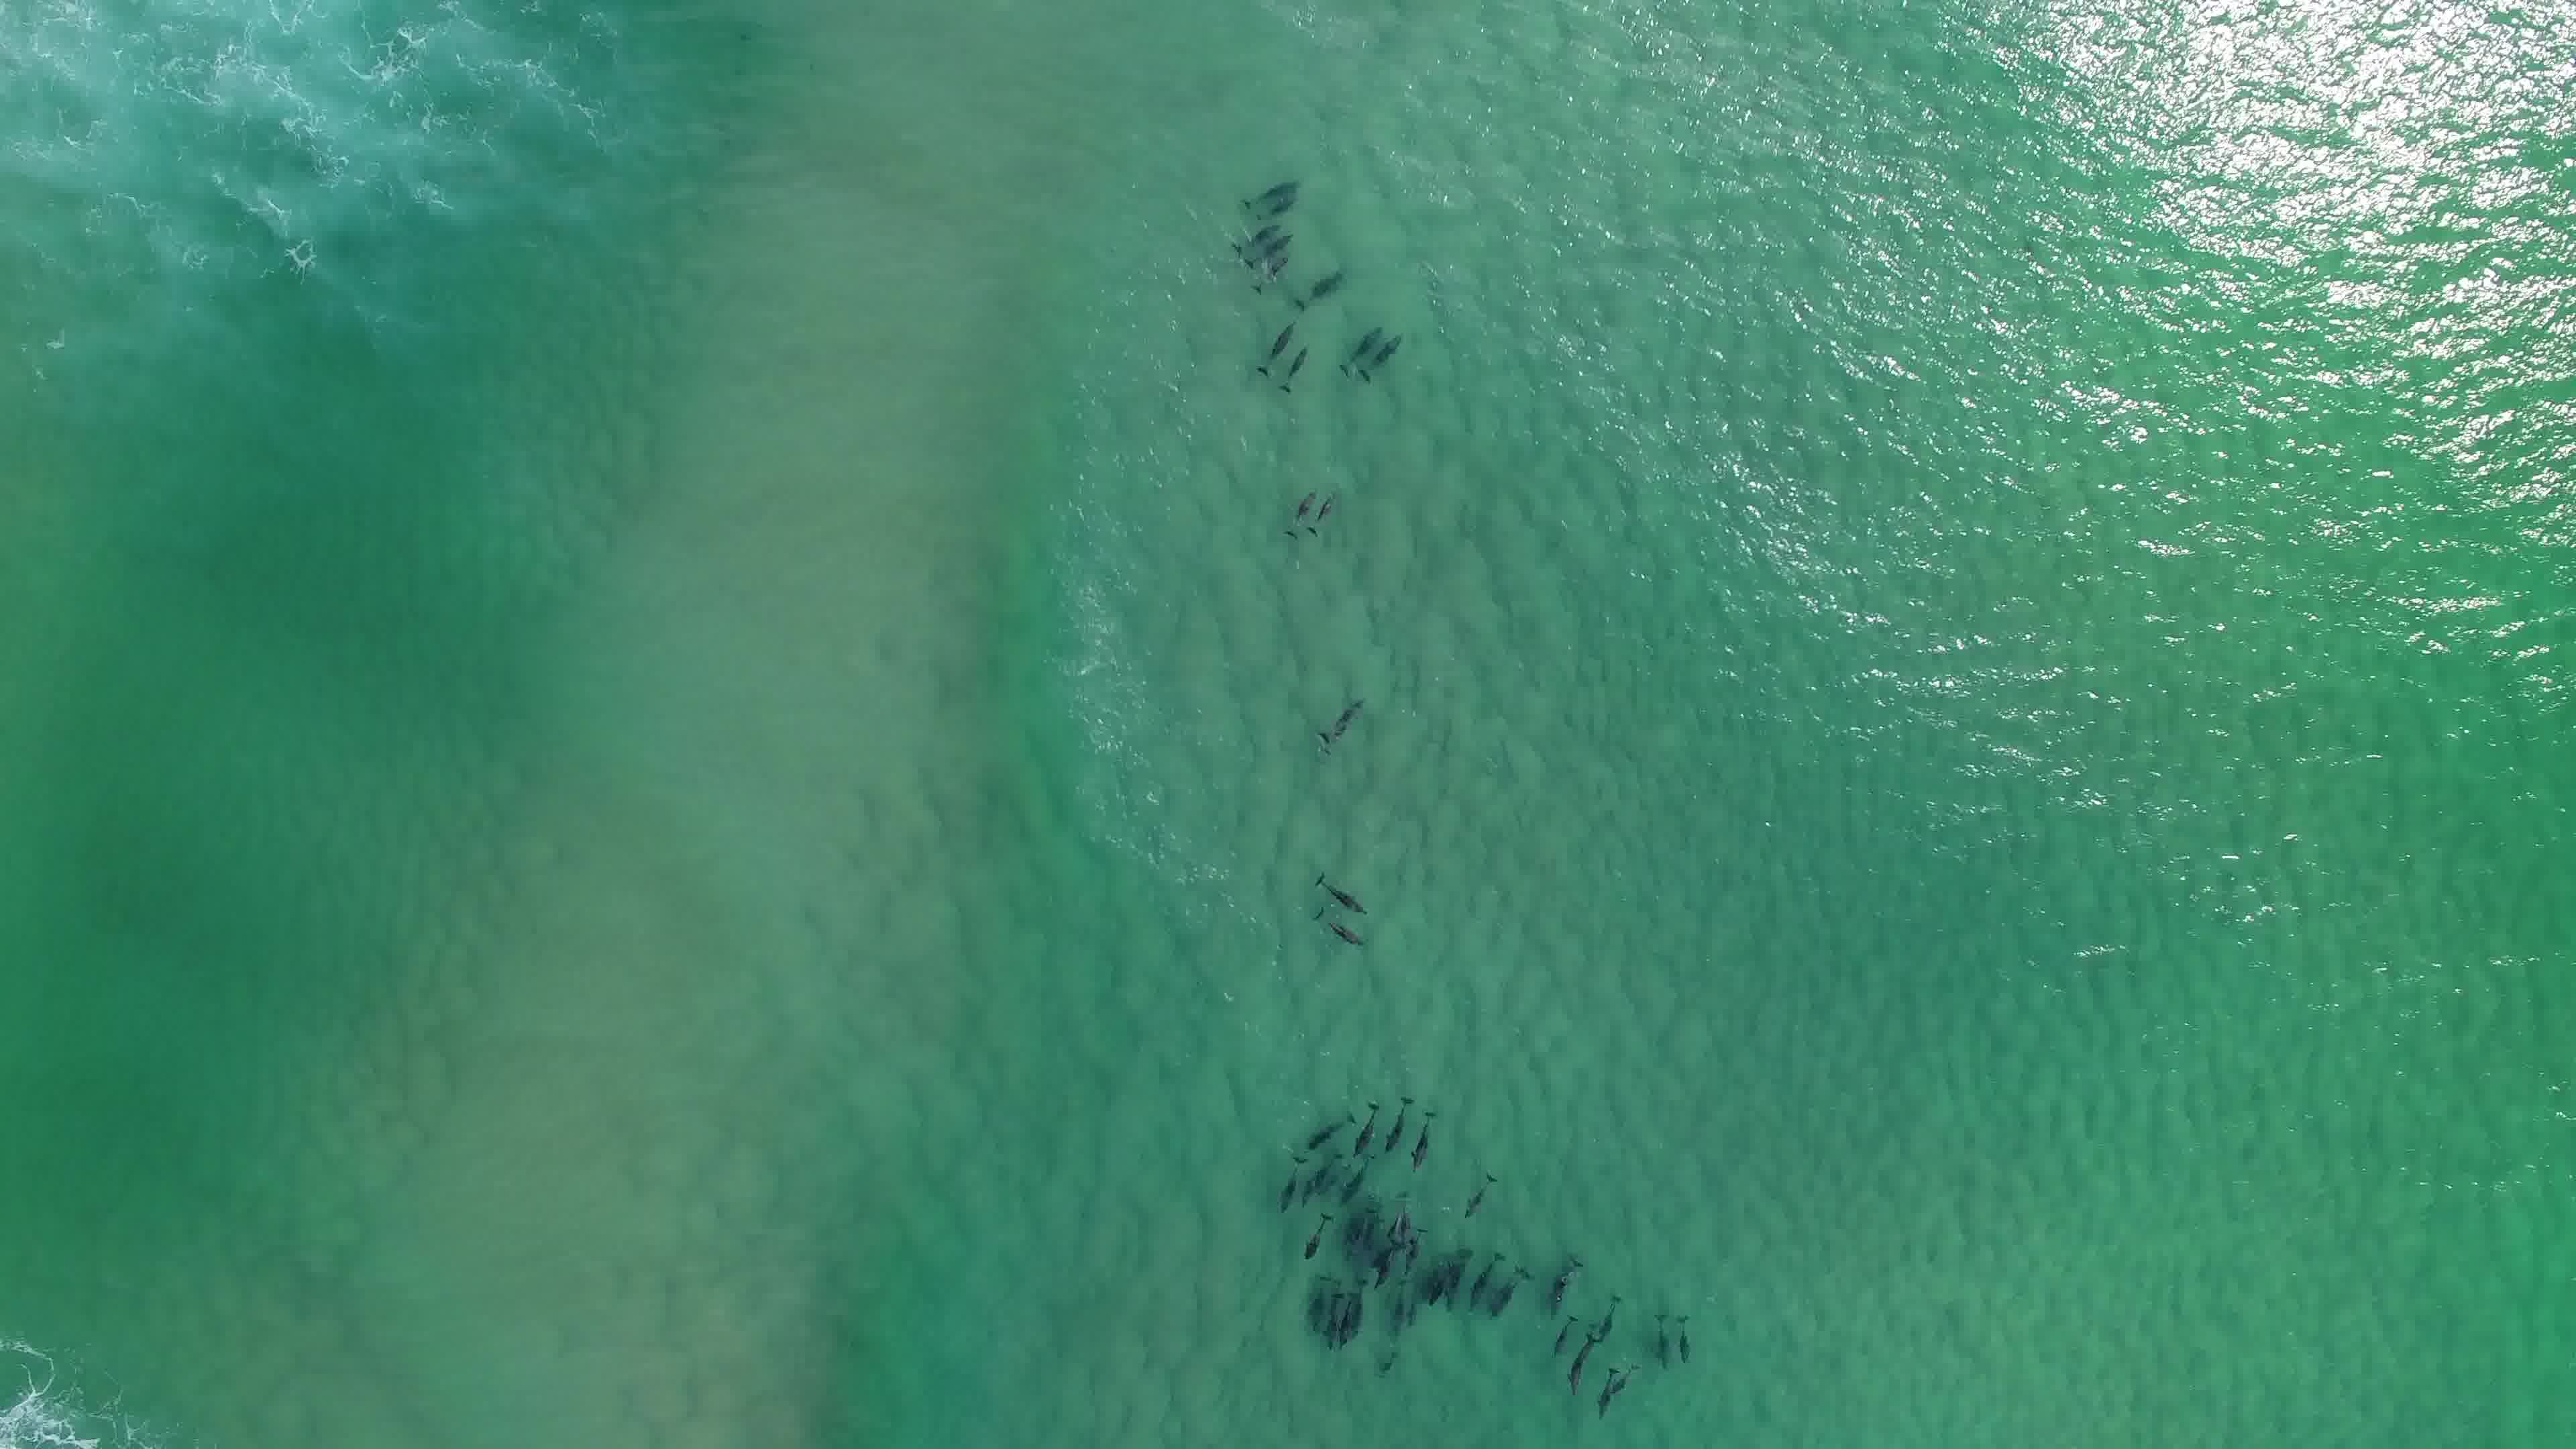dolphin: (1292, 899, 1373, 962), (1304, 849, 1369, 920), (1240, 310, 1307, 370), (1288, 1102, 1353, 1152), (1456, 1155, 1500, 1224), (1230, 166, 1306, 205), (1345, 1090, 1389, 1155), (1412, 1100, 1447, 1180), (1346, 1200, 1385, 1270), (1350, 334, 1407, 382), (1550, 1251, 1585, 1318), (1267, 1152, 1311, 1205), (1555, 1325, 1594, 1382), (1486, 1265, 1532, 1313), (1329, 315, 1380, 357), (1235, 242, 1299, 276), (1288, 260, 1343, 299), (1460, 1251, 1497, 1307), (1267, 336, 1306, 387), (1591, 1292, 1629, 1343), (1384, 1093, 1414, 1155), (1297, 1196, 1325, 1261), (1256, 189, 1306, 225), (1401, 1223, 1430, 1284), (1376, 1231, 1405, 1293), (1594, 1362, 1626, 1415), (1307, 1267, 1330, 1338), (1283, 483, 1316, 531), (1548, 1313, 1582, 1361), (1322, 1281, 1343, 1352), (1389, 1286, 1415, 1341), (1316, 479, 1341, 536), (1649, 1307, 1674, 1364), (1334, 690, 1361, 741), (1233, 216, 1286, 241), (1235, 232, 1290, 255), (1396, 1200, 1417, 1256), (1405, 1292, 1433, 1334), (1674, 1311, 1697, 1361), (1382, 1198, 1401, 1254), (1430, 1265, 1453, 1313), (1610, 1361, 1644, 1391), (1336, 1288, 1352, 1348), (1353, 1274, 1366, 1345), (1445, 1270, 1463, 1306)
